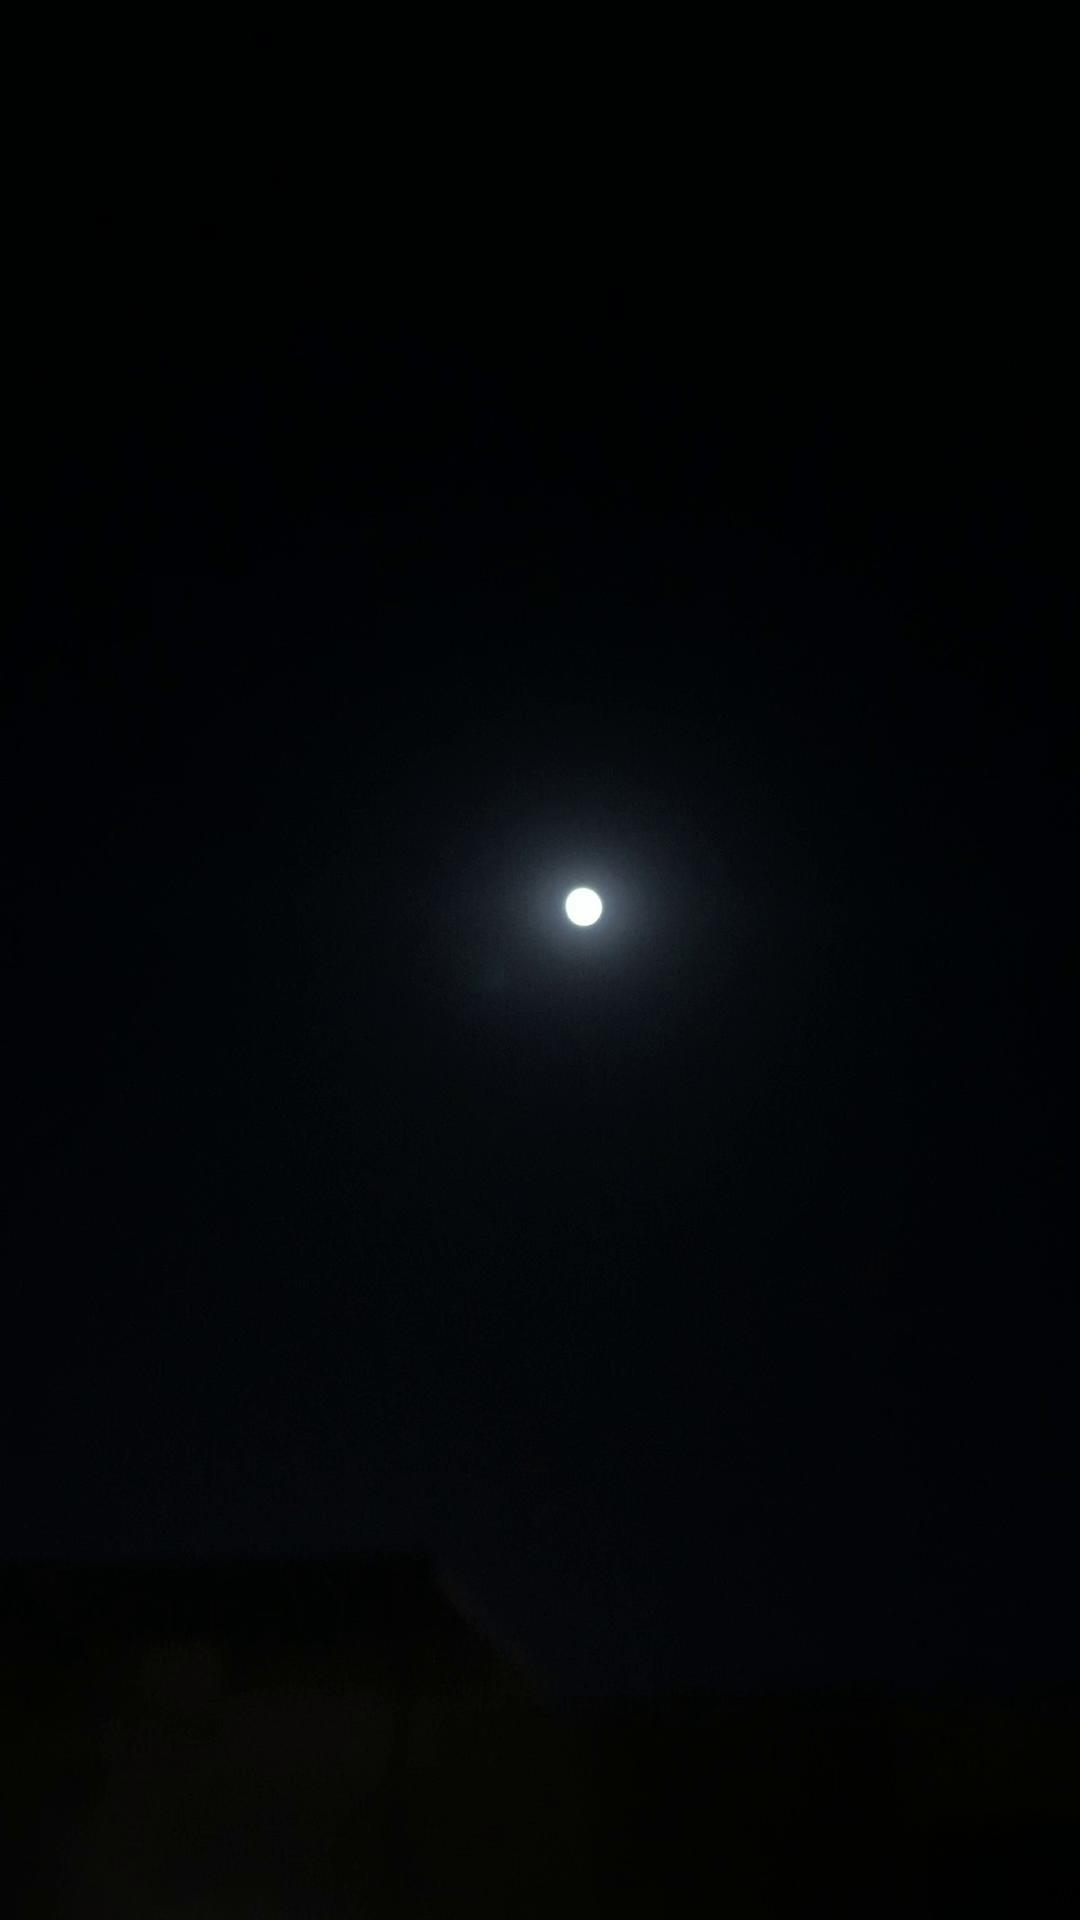moon: (535, 852, 622, 948)
